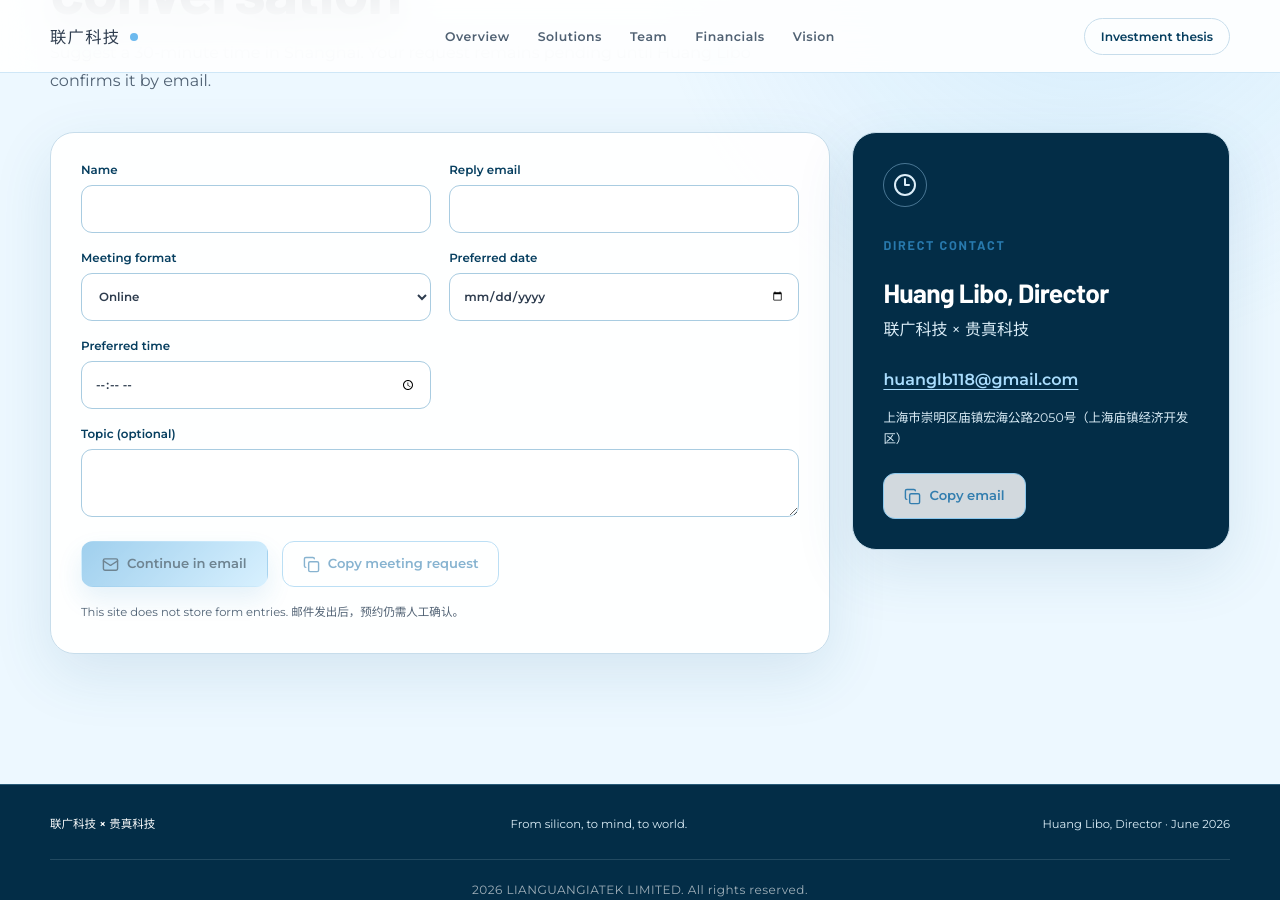
Scenario: site interactions › exposes copyable text when Clipboard API access fails
(page scrolled)
Click the button "Copy email".
click(954, 496)  # box [883, 473, 1026, 519]
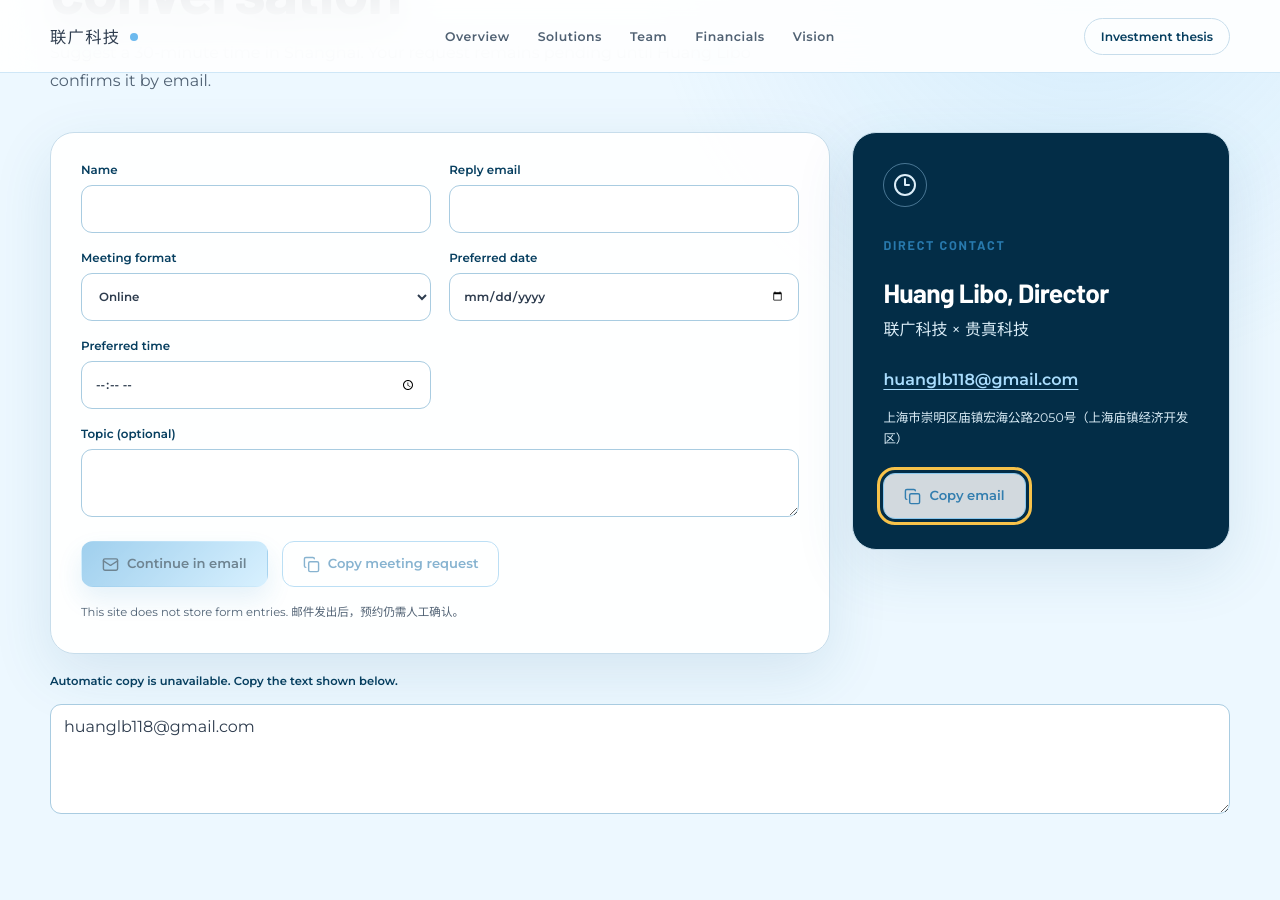
Expected: the message shows "Copy the text shown below", [50, 674, 398, 688]
Expected: the text box named "Text to copy manually" holds "huanglb118@gmail.com", [50, 704, 1230, 814]
